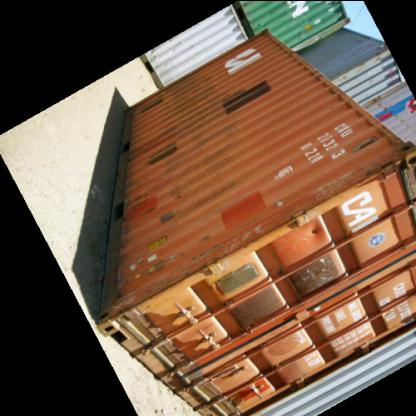Damage: (119, 251, 240, 315), (216, 196, 328, 248), (316, 157, 396, 208), (156, 182, 198, 242), (130, 168, 164, 226)
